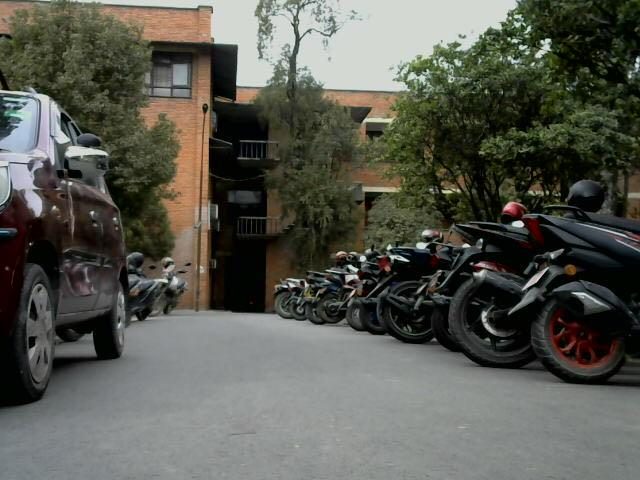Car: (3, 86, 127, 408)
Electrical Pole: (194, 101, 211, 332)
Motorcycle: (266, 195, 639, 383), (128, 253, 192, 326)
Road: (68, 309, 540, 480)
Tree: (248, 0, 383, 281), (6, 4, 176, 99)
